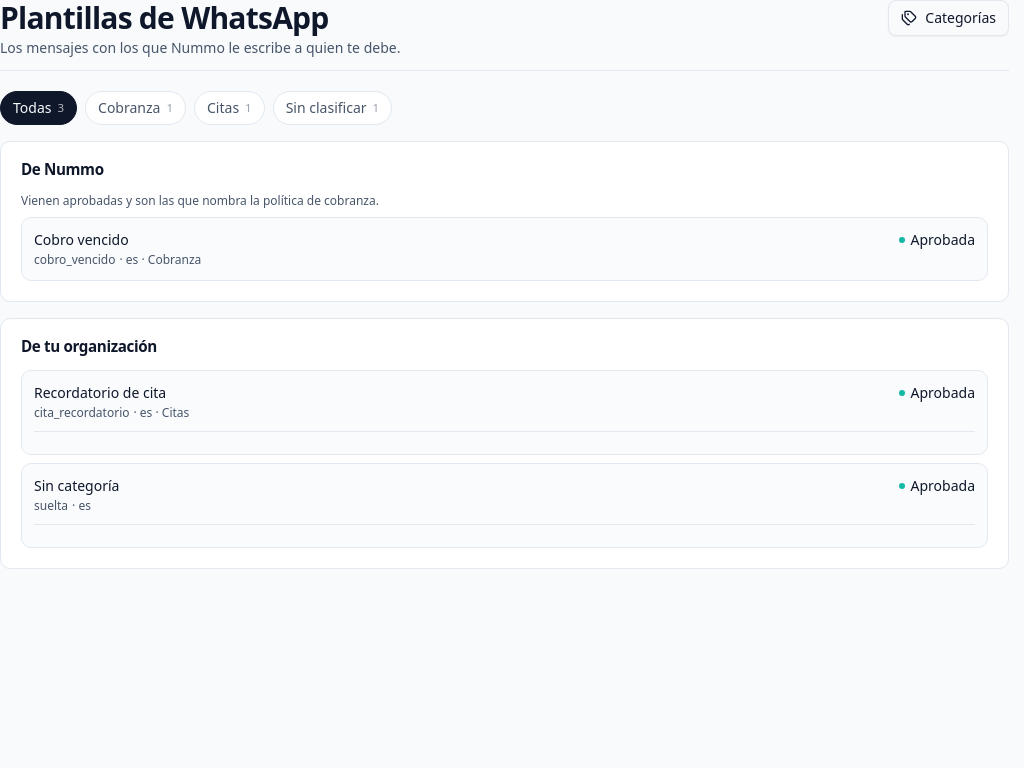
sin permiso de gestión el cajón se lee pero no se escribe
Click the button "Categorías": x=949, y=18 [888,0,1009,36]
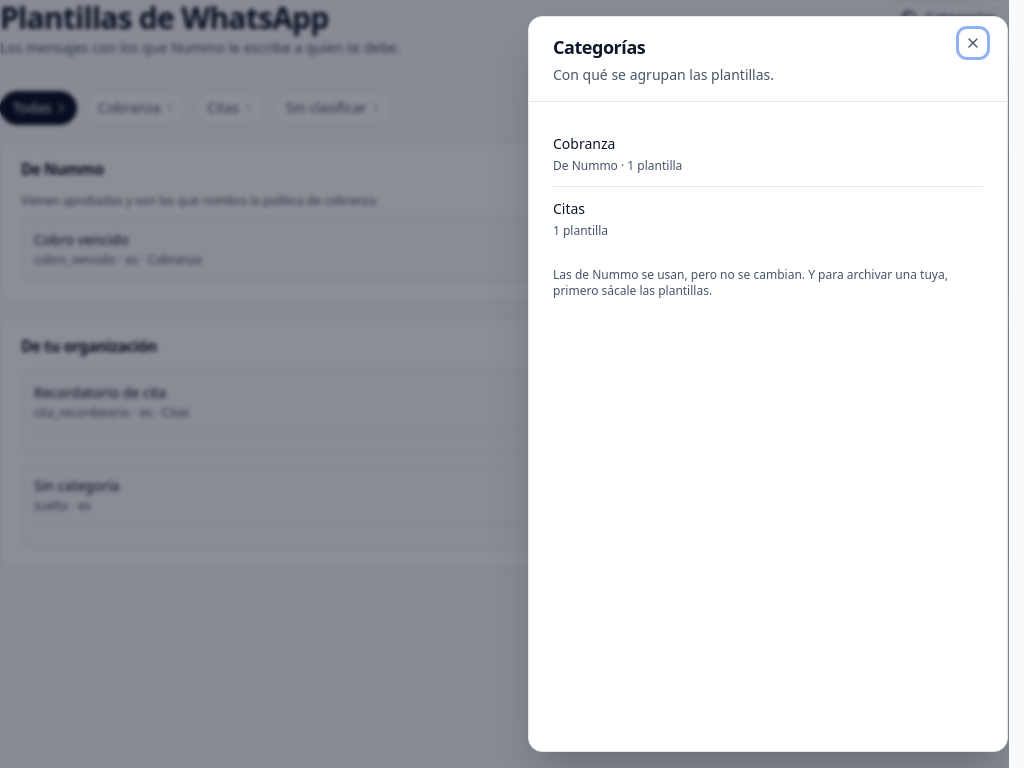
Expected: the text "Citas" is shown, [553,199,585,218]
